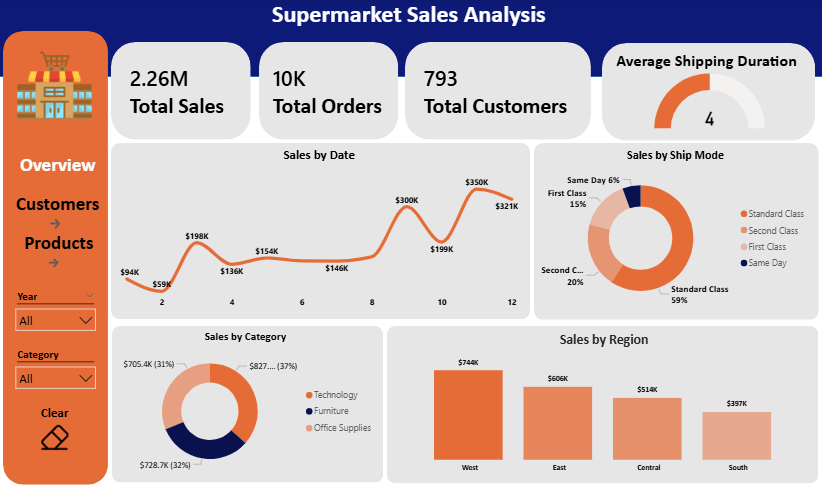

What the dashboard file says about the page in this screenshot:
{"tool":"powerbi","page":{"name":"Overview","canvas":[1286,750],"ordinal":0},"visuals":[{"type":"shape","box":[9.7,0,1276.3,120],"z":0},{"type":"shape","box":[837,222,439.5,273],"z":0,"group":"g5"},{"type":"shape","box":[184.4,505.5,418.6,241.6],"z":0,"group":"g7"},{"type":"shape","box":[942.2,68.1,329.2,150.8],"z":1000},{"type":"donutChart","title":"Sales by Ship Mode","fields":{"Y":["Sum(Order Details.Sales)"],"Category":["Order Details.Ship Mode"]},"box":[843.6,228.5,424.7,258.4],"z":1000,"group":"g5"},{"type":"shape","box":[610.5,505.5,666,243],"z":1000,"group":"g6"},{"type":"shape","box":[183.3,66.6,215.7,150.8],"z":1005,"group":"g1"},{"type":"shape","box":[411.9,66.6,215,150.8],"z":1006,"group":"g2"},{"type":"shape","box":[637.3,66.6,287.1,150.8],"z":1007,"group":"g3"},{"type":"cardVisual","fields":{"Data":["Measure.Total Sales"]},"box":[183.3,79.6,215.7,126.5],"z":1010,"group":"g1"},{"type":"cardVisual","fields":{"Data":["Measure.Number of orders"]},"box":[403.8,79.6,228.7,126.5],"z":1011,"group":"g2"},{"type":"cardVisual","fields":{"Data":["Measure.Number of Customers"]},"box":[637.3,79.6,300,126.5],"z":1012,"group":"g3"},{"type":"shape","box":[16.2,48.7,162.2,700.6],"z":2000},{"type":"shape","title":"Supermarket Sales Analysis","box":[210.8,0,911.4,43.8],"z":3000},{"type":"shape","title":"Overview","box":[15.1,238.4,171.9,35.7],"z":4000},{"type":"shape","title":"Customers","box":[15.1,297.6,171.9,35.7],"z":5000},{"type":"shape","title":"Products","box":[16.5,358.5,172.5,36],"z":6000},{"type":"group","id":"g1","title":"Group 1","box":[183.3,66.6,215.7,150.8],"z":7000},{"type":"group","id":"g2","title":"Group 2","box":[403.8,66.6,228.7,150.8],"z":8000},{"type":"group","id":"g3","title":"Group 3","box":[637.3,66.6,300,150.8],"z":9000},{"type":"gauge","title":"Average Shipping Duration","fields":{"Y":["Measure.Average Shipping"]},"box":[958.4,79.5,298.4,126.5],"z":10000},{"type":"group","id":"g4","title":"Group 4","box":[183.3,222.2,647.1,272.4],"z":11000},{"type":"shape","box":[183.3,222.2,647.1,272.4],"z":11000,"group":"g4"},{"type":"group","id":"g5","title":"Group 5","box":[837,222,439.5,273],"z":12000},{"type":"lineChart","title":"Sales by Date","fields":{"Y":["Sum(Order Details.Sales)"],"Category":["Order Details.Year Hierarchy.Year","Order Details.Year Hierarchy.Month","Order Details.Year Hierarchy.Quarter"]},"box":[193,228.7,624.4,257.8],"z":12000,"group":"g4"},{"type":"group","id":"g6","title":"Group 6","box":[610.5,505.5,666,243],"z":13000},{"type":"group","id":"g7","title":"Group 5","box":[183,505.5,420,241.5],"z":14000},{"type":"clusteredColumnChart","title":"Sales by Region","fields":{"Y":["Sum(Order Details.Sales)"],"Category":["Customers.Geographic.Region","Customers.Geographic.City"]},"box":[623.1,513.6,645.6,226.8],"z":14000,"group":"g6"},{"type":"donutChart","title":"Sales by Category","fields":{"Category":["Products.Category"],"Y":["Sum(Order Details.Sales)"]},"box":[183,510.4,415.3,231.9],"z":14003,"group":"g7"},{"type":"image","box":[35.7,48.7,121.6,168.7],"z":15000},{"type":"slicer","fields":{"Values":["Order Details.Year"]},"box":[25.9,442.7,144.3,71.4],"z":16000},{"type":"slicer","fields":{"Values":["Products.Category"]},"box":[25.9,531.9,144.3,82.7],"z":17000},{"type":"image","title":"Clear","box":[56.8,627.6,79.5,71.4],"z":18000},{"type":"actionButton","box":[85.5,334.5,33,24],"z":19000},{"type":"actionButton","box":[84,394.5,22.5,24],"z":20000}]}

Visuals, with their boxes in screenshot pixels (x1, y1, x2, y2), scaled from the page's 1286x750 canvas onto the 822x489 screenshot:
shape: 6, 0, 821, 78
shape: 535, 145, 816, 323
shape: 118, 330, 385, 487
shape: 602, 44, 813, 143
"Sales by Ship Mode" donutChart: 539, 149, 811, 317
shape: 390, 330, 816, 488
shape: 117, 43, 255, 142
shape: 263, 43, 401, 142
shape: 407, 43, 591, 142
cardVisual - Measure.Total Sales: 117, 52, 255, 134
cardVisual - Measure.Number of orders: 258, 52, 404, 134
cardVisual - Measure.Number of Customers: 407, 52, 599, 134
shape: 10, 32, 114, 488
"Supermarket Sales Analysis" shape: 135, 0, 717, 29
"Overview" shape: 10, 155, 120, 179
"Customers" shape: 10, 194, 120, 217
"Products" shape: 11, 234, 121, 257
"Group 1" group: 117, 43, 255, 142
"Group 2" group: 258, 43, 404, 142
"Group 3" group: 407, 43, 599, 142
"Average Shipping Duration" gauge: 613, 52, 803, 134
"Group 4" group: 117, 145, 531, 322
shape: 117, 145, 531, 322
"Group 5" group: 535, 145, 816, 323
"Sales by Date" lineChart: 123, 149, 522, 317
"Group 6" group: 390, 330, 816, 488
"Group 5" group: 117, 330, 385, 487
"Sales by Region" clusteredColumnChart: 398, 335, 811, 483
"Sales by Category" donutChart: 117, 333, 382, 484
image: 23, 32, 101, 142
slicer - Order Details.Year: 17, 289, 109, 335
slicer - Products.Category: 17, 347, 109, 401
"Clear" image: 36, 409, 87, 456
actionButton: 55, 218, 76, 234
actionButton: 54, 257, 68, 273
